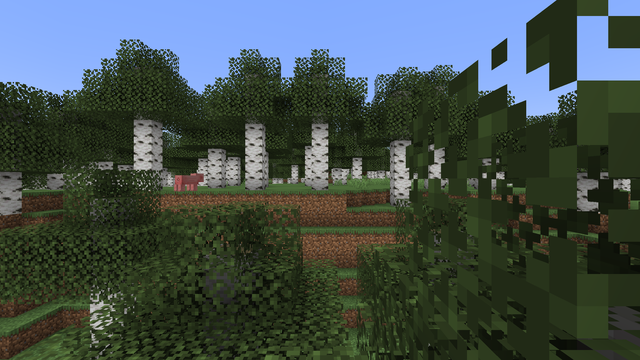cochons: (174, 174, 198, 190)
